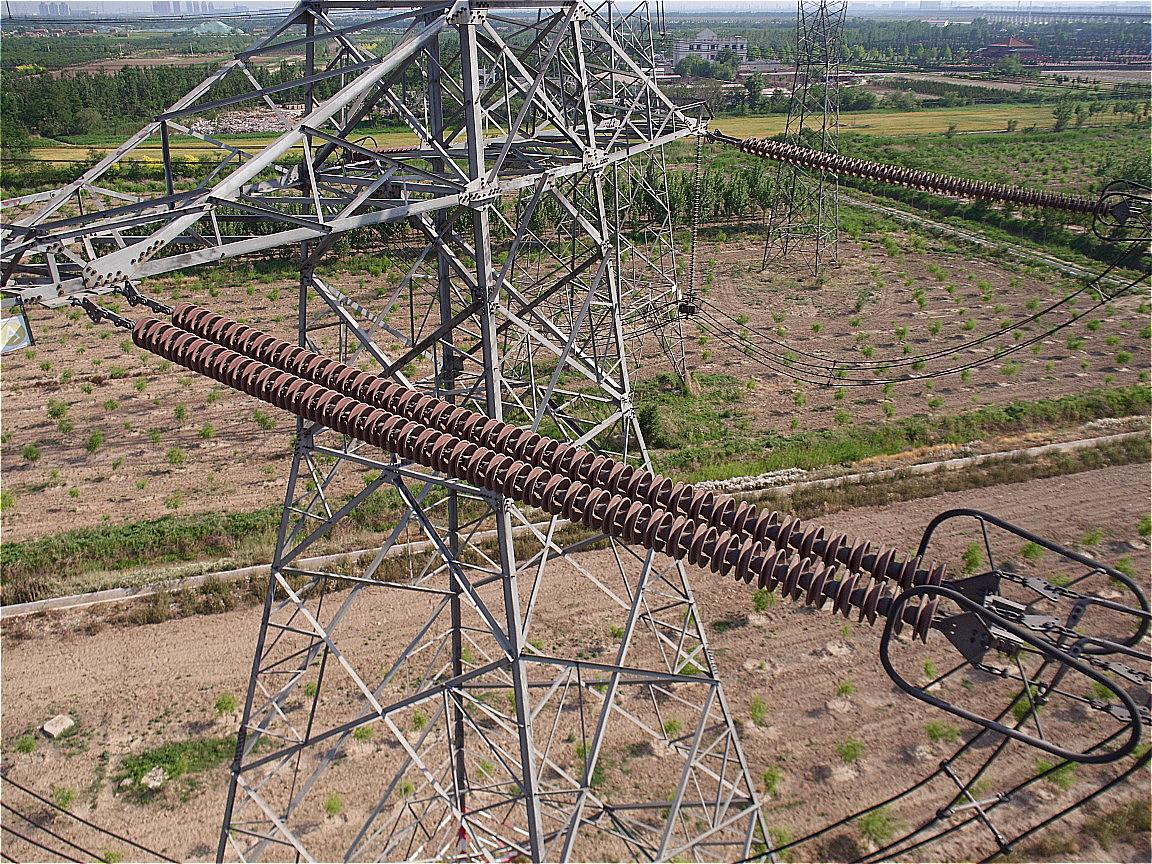insultor2: (134, 300, 949, 642), (738, 134, 1103, 215)
